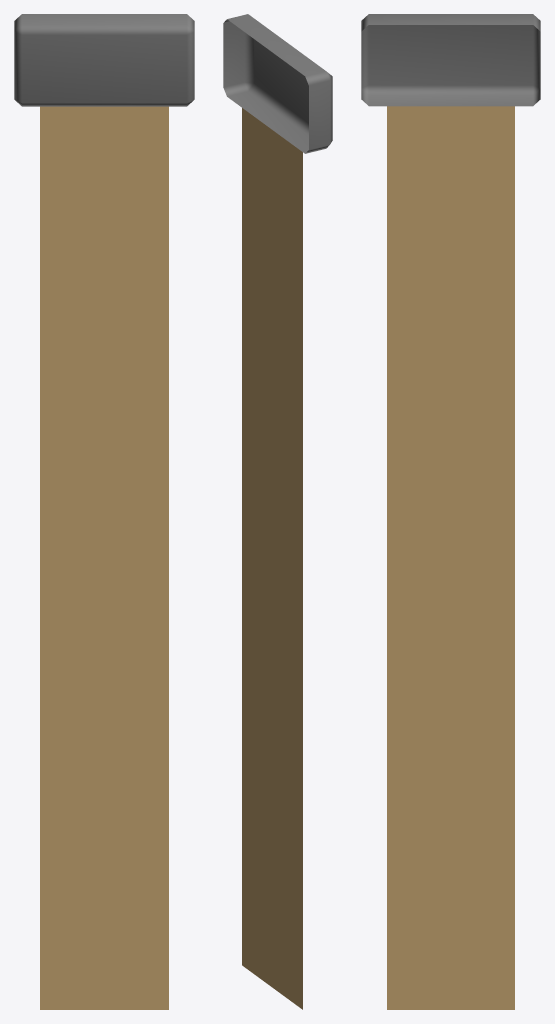
File: SM_WallEndA_8_LOD0.fbx
The picture shows the model from 3 angles, left to right: view 1: azimuth 90°, elevation 25°; view 2: azimuth 210°, elevation 25°; view 3: azimuth 270°, elevation 25°; orthographic projection. The views are drawn at different scales.
Parts seen in each view (by area): view 1: SM_WallEndA_8_LOD0; view 2: SM_WallEndA_8_LOD0; view 3: SM_WallEndA_8_LOD0.
Boxes of the visible parts, bbox=[...] form: SM_WallEndA_8_LOD0: bbox=[14, 14, 194, 1009]; SM_WallEndA_8_LOD0: bbox=[223, 14, 332, 1009]; SM_WallEndA_8_LOD0: bbox=[361, 14, 540, 1009].
Size of the model in its own units: 0.26 by 8.5 by 1.4.
